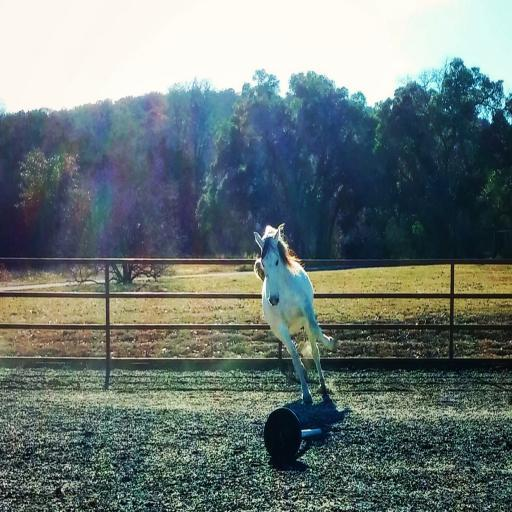Horse: (252, 222, 335, 405)
